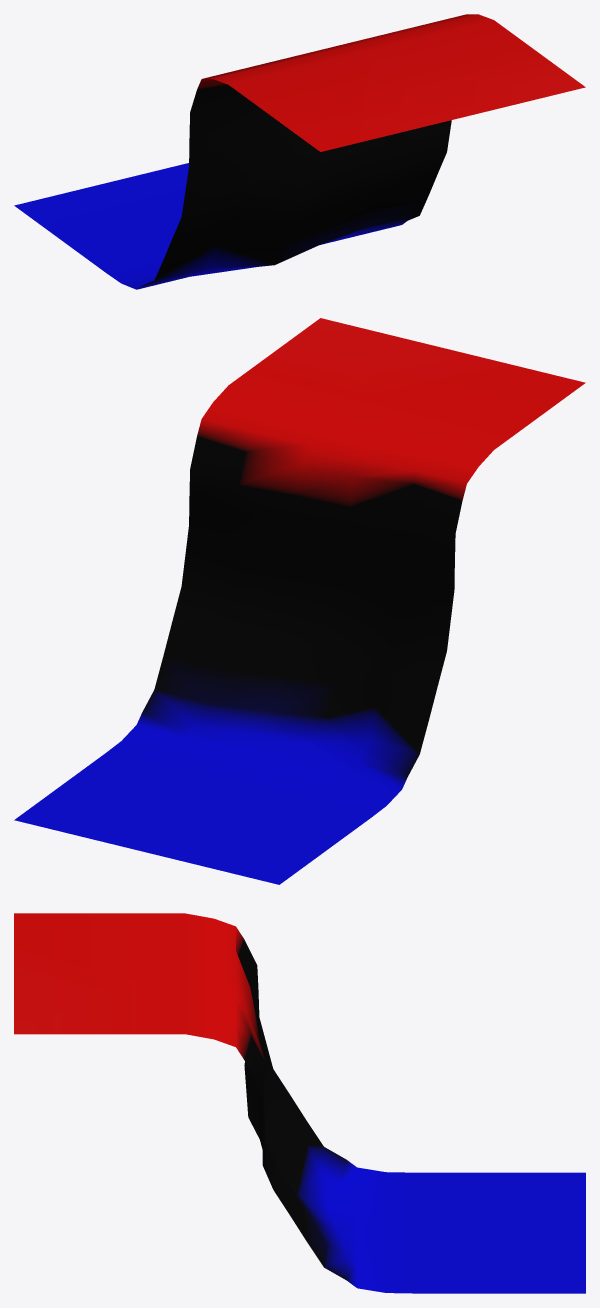
File: RiveCliff00A Background.fbx
3 views of the same model, one above another, from view 1: azimuth 30°, elevation 25°; view 2: azimuth 150°, elevation 25°; view 3: azimuth 270°, elevation 25° (orthographic). The views are drawn at different scales.
Visible parts, largest first — view 1: RiveCliff00A Background; view 2: RiveCliff00A Background; view 3: RiveCliff00A Background.
Part boxes in pixels (left/top/right/bottom): RiveCliff00A Background: left=14, top=14, right=585, bottom=289; RiveCliff00A Background: left=14, top=318, right=585, bottom=884; RiveCliff00A Background: left=14, top=913, right=585, bottom=1293.
Bounding box in the file's own units: 1 × 1 × 2.
